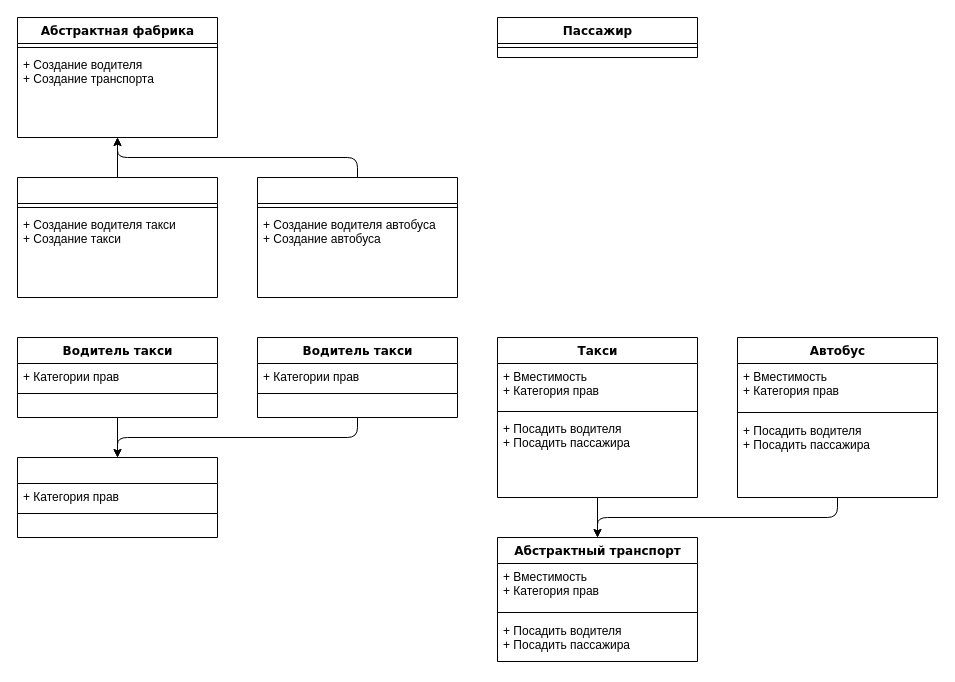
Some shapes in this 955 by 682 pixel diagram are drawn without their labels. The shapes that lost their labels are listed below. From the top down, each one's box as (x1, y1, x2, y2) in pixels, then its label:
(16, 176, 218, 298): Фабрика Такси
(256, 176, 458, 298): Фабрика Автобусов
(16, 456, 218, 538): Абстрактный водитель
